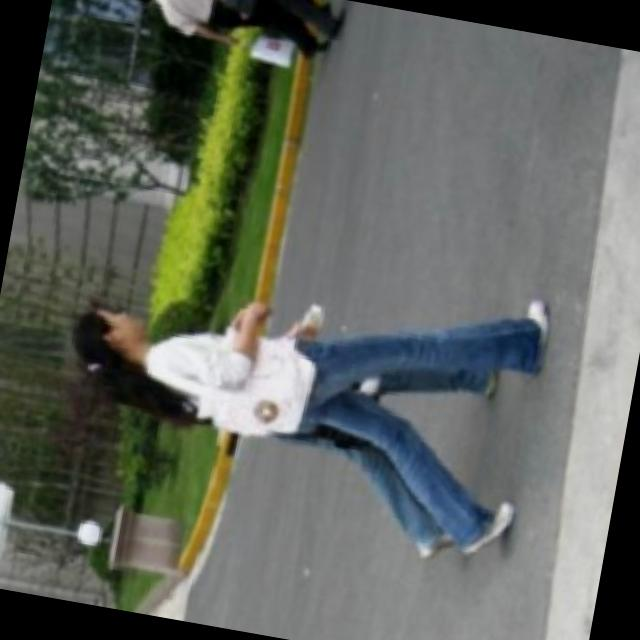Person: (44, 224, 566, 568), (115, 0, 325, 63)
